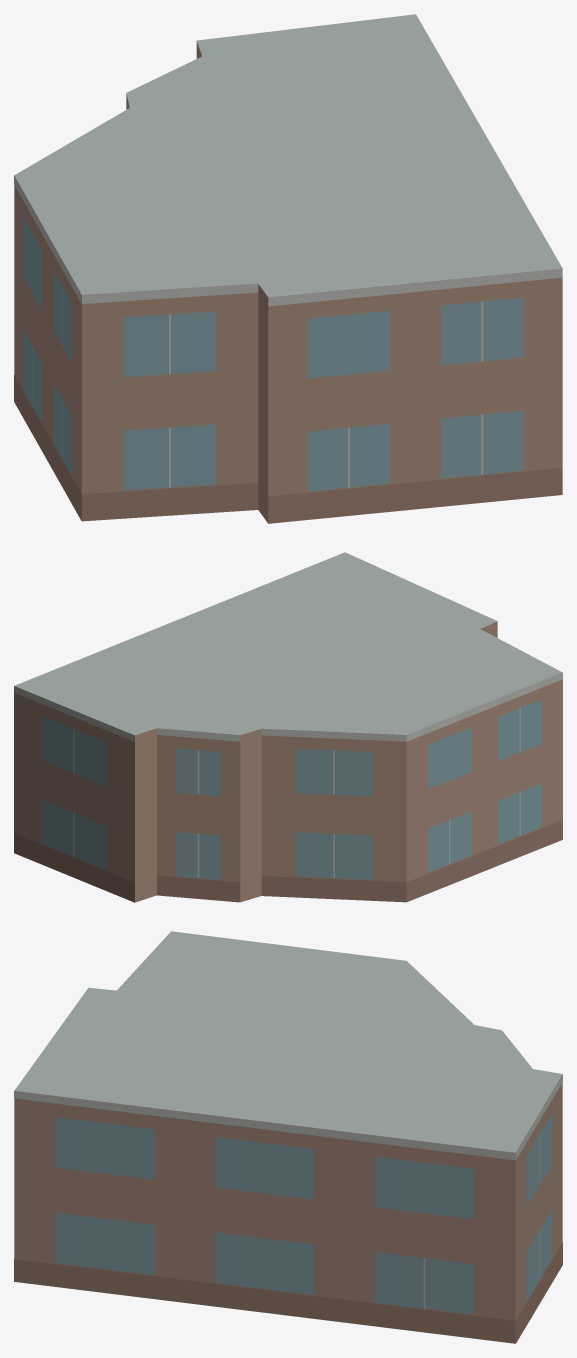
Rendered from survey-upis-33040860.glb.
3 renders of one model, top to bottom at view 1: azimuth 30°, elevation 25°; view 2: azimuth 150°, elevation 25°; view 3: azimuth 270°, elevation 25°, orthographic. The views are drawn at different scales.
Visible parts, largest first — view 1: survey-upis-33040860.tmp; view 2: survey-upis-33040860.tmp; view 3: survey-upis-33040860.tmp.
Part boxes in pixels (box(x1,y1,x2,y2)): survey-upis-33040860.tmp: box(14, 14, 562, 523); survey-upis-33040860.tmp: box(14, 552, 562, 902); survey-upis-33040860.tmp: box(14, 931, 562, 1343).
Bounding box in the file's own units: 15.2 × 6.1 × 15.9.
